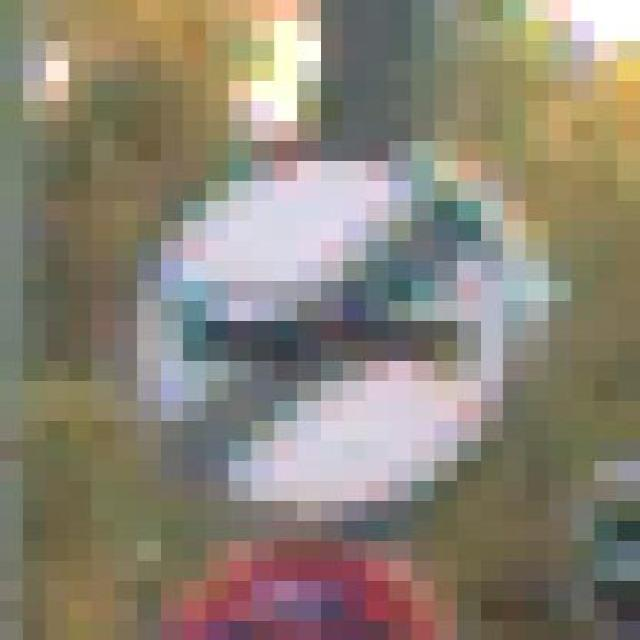No_Over_Taking: (91, 100, 594, 540)
